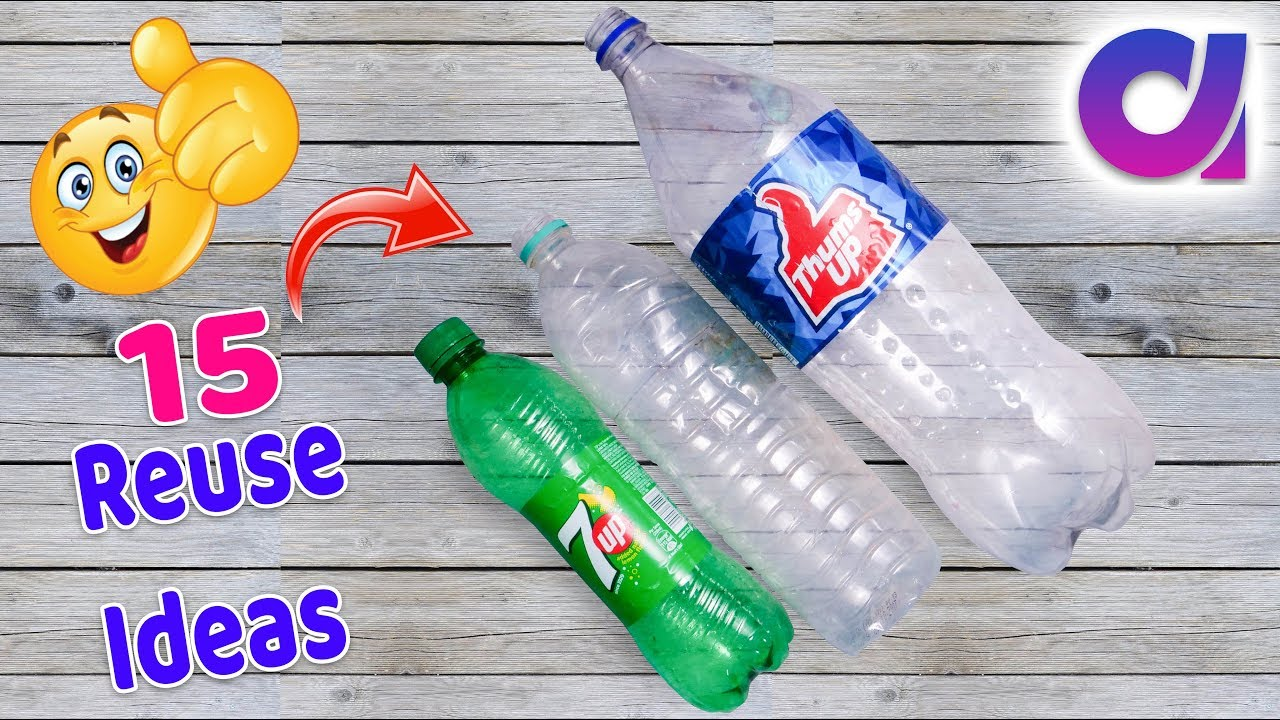plastic_bottle: (522, 1, 1223, 688), (425, 111, 1073, 720), (325, 281, 1025, 720)
